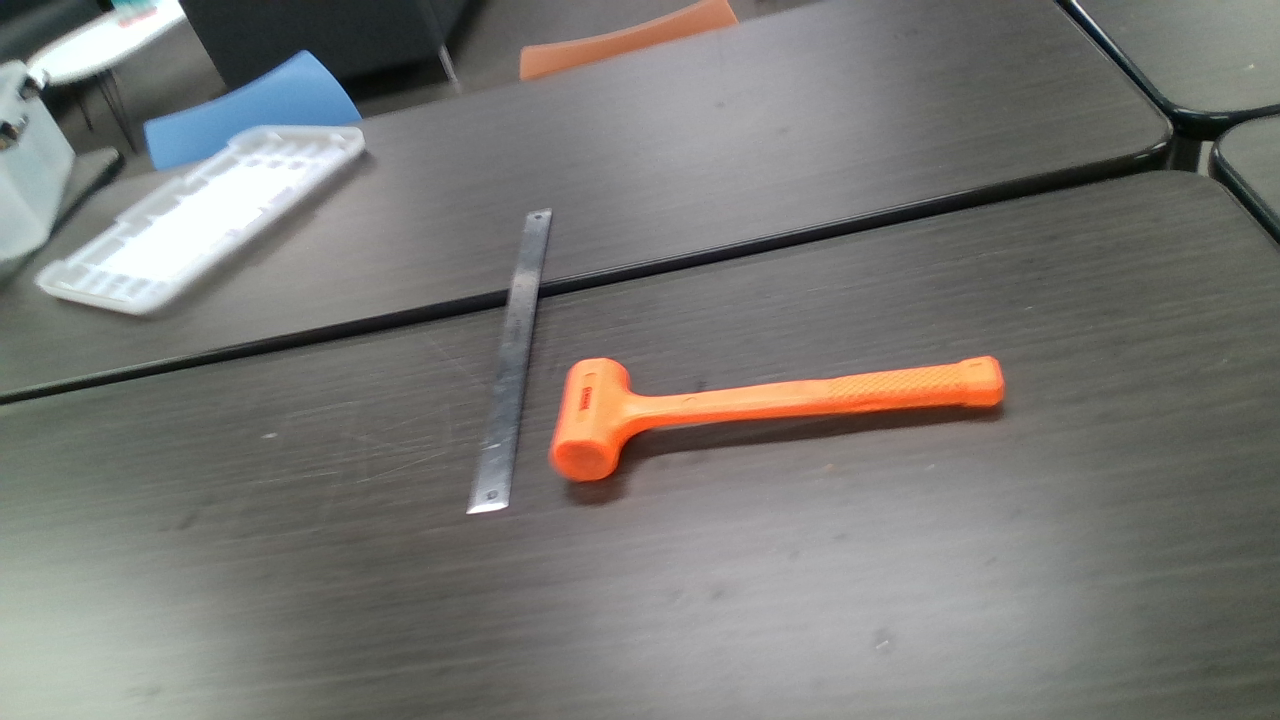Orange Hammer: (551, 354, 1001, 480)
